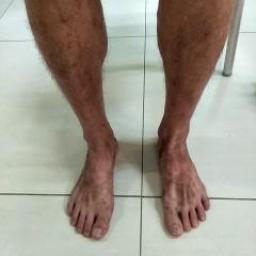Dorsal View -Both Feet-: (49, 104, 222, 248)
